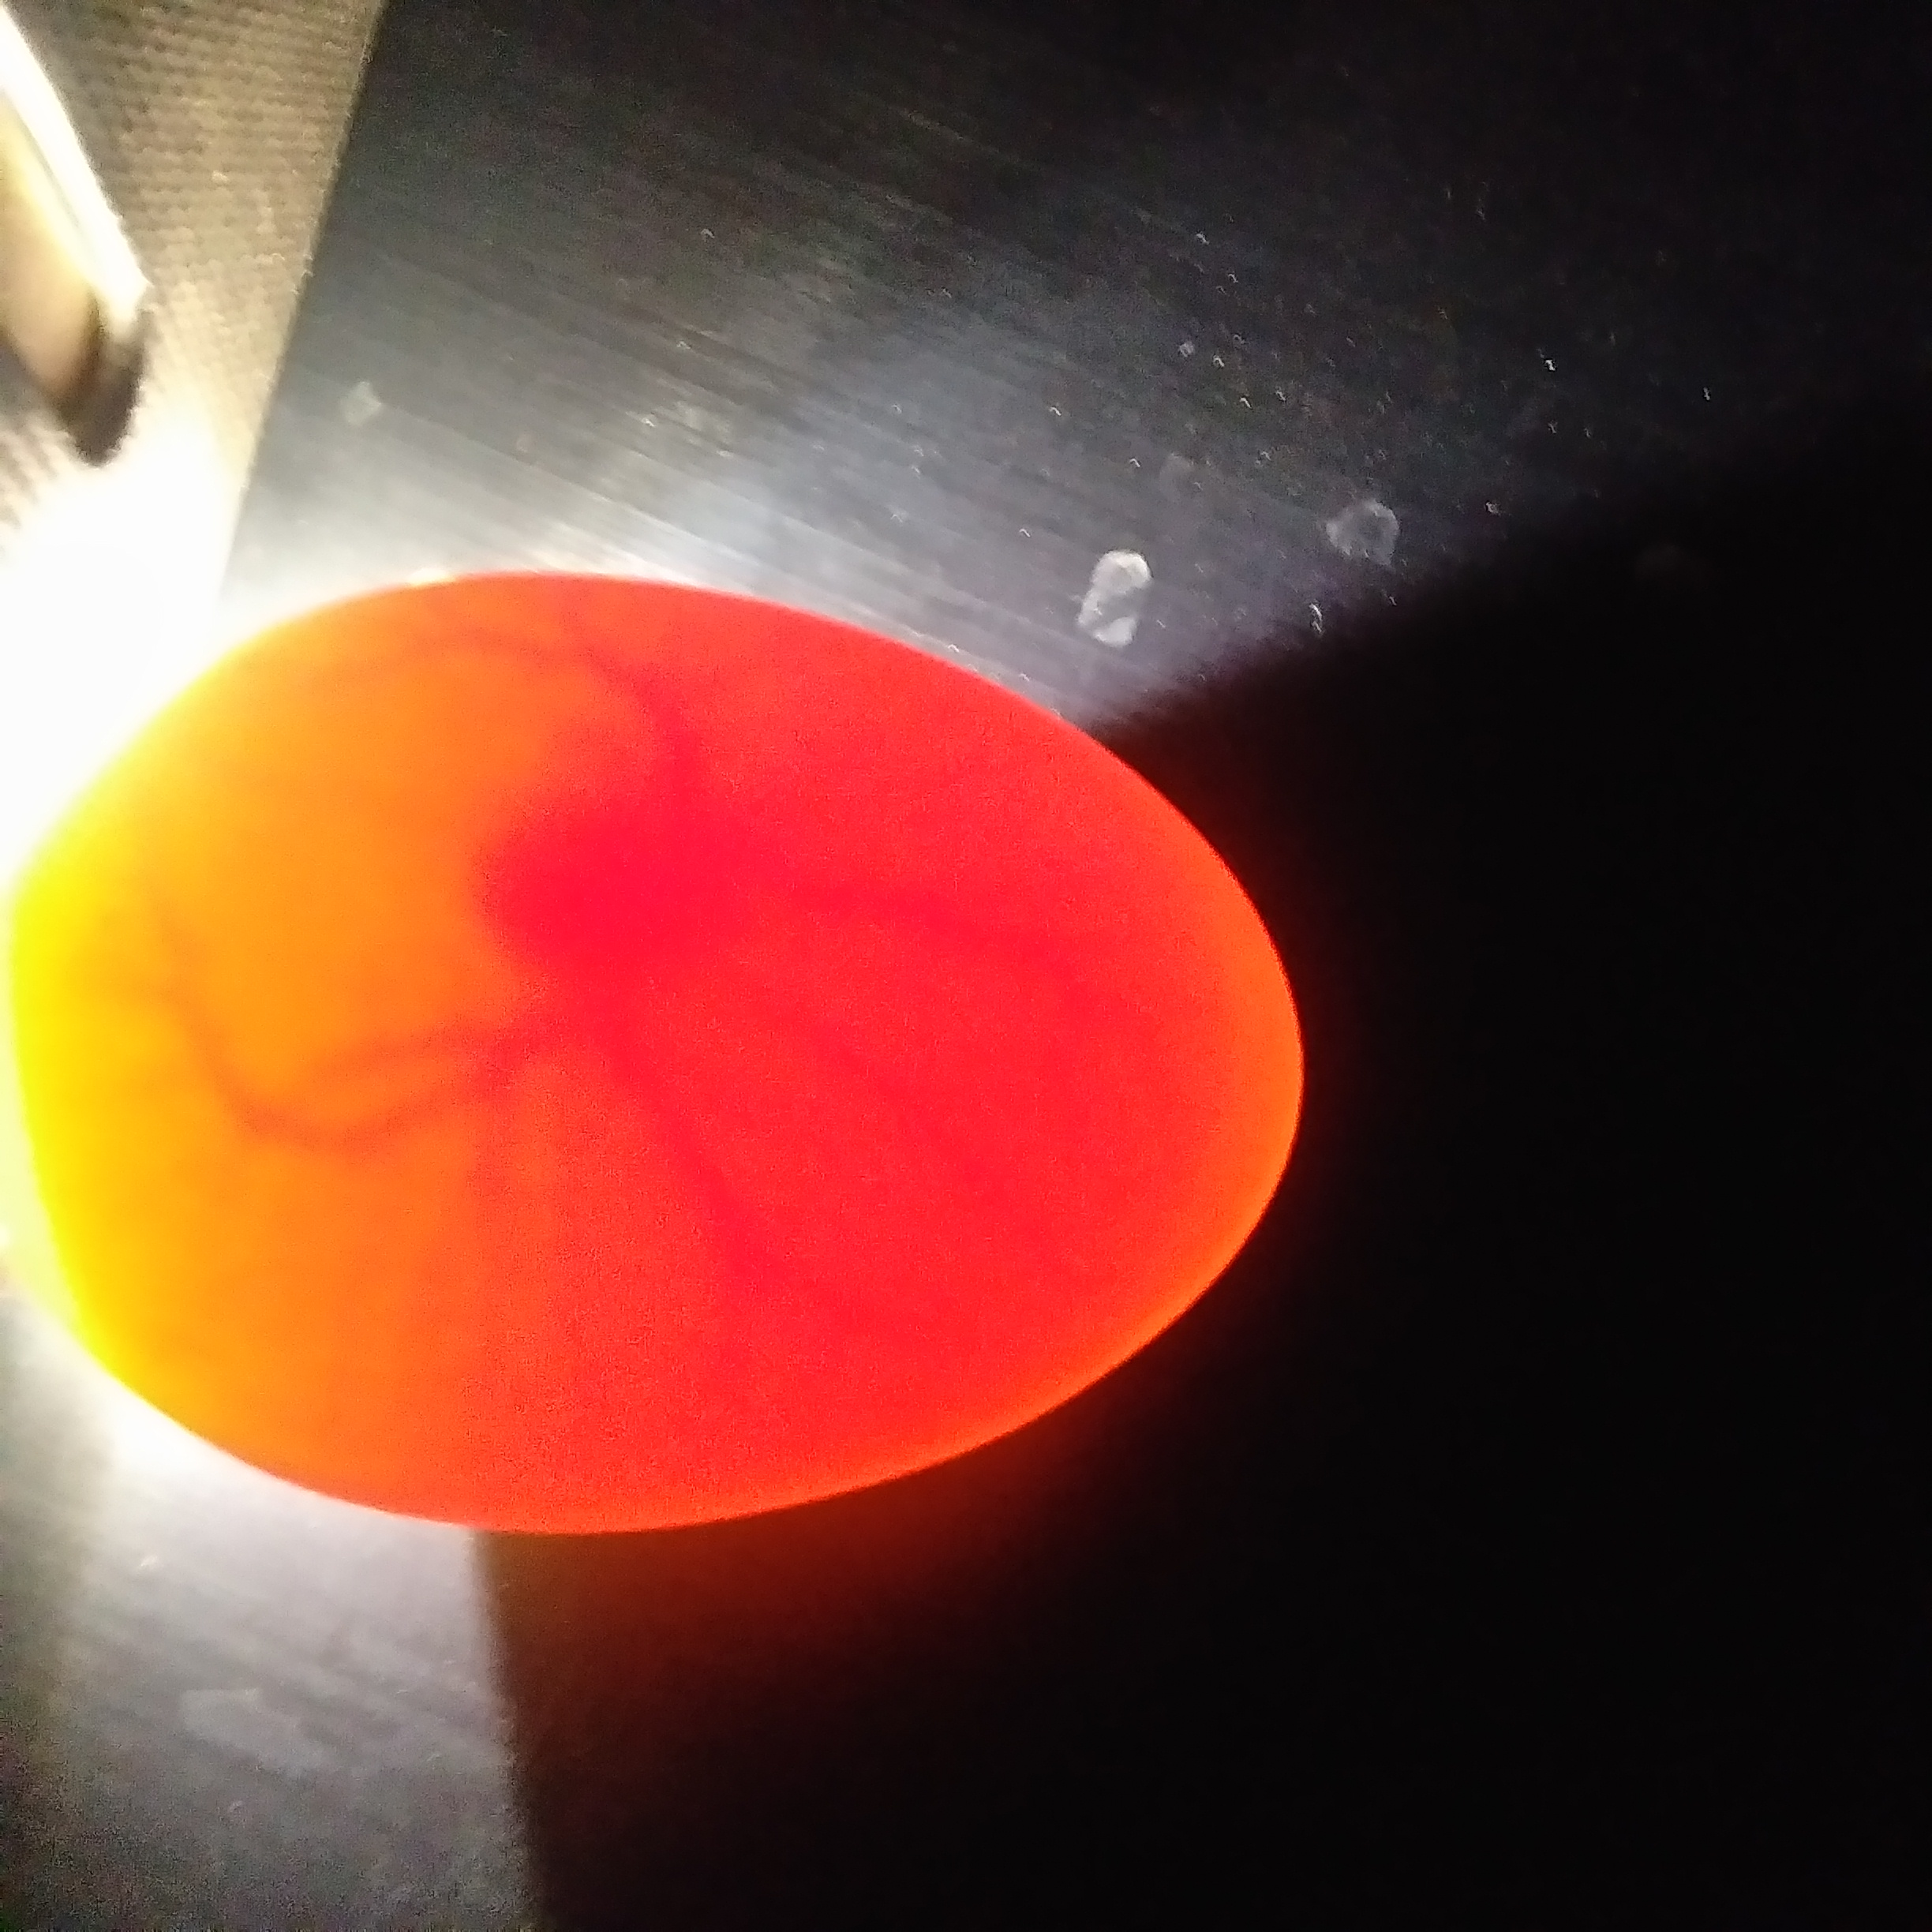bloodcell: (71, 909, 453, 1223), (471, 1077, 895, 1348)
embryo: (494, 812, 669, 991)
